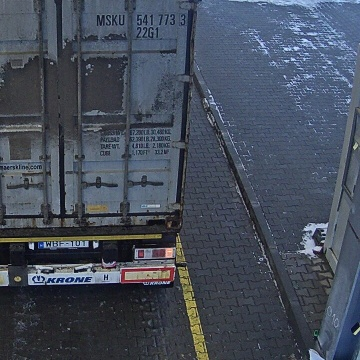serial_id: (97, 14, 186, 25)
